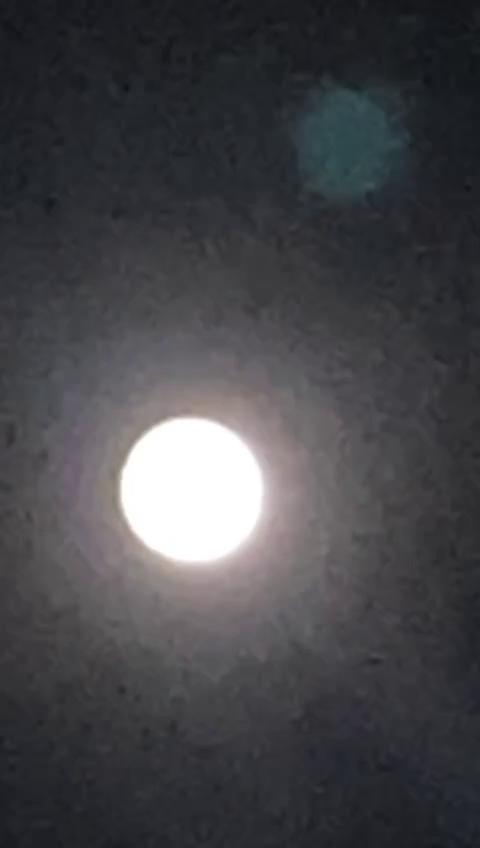moon: (114, 392, 282, 583)
